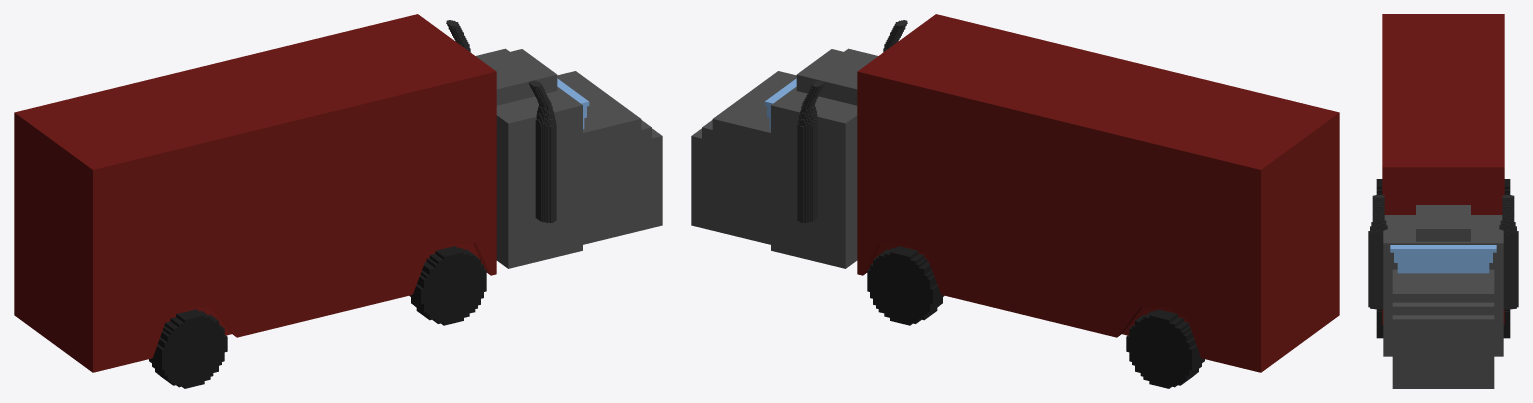
File: Car2.fbx
3 renders of one model, left to right at view 1: azimuth 30°, elevation 25°; view 2: azimuth 150°, elevation 25°; view 3: azimuth 270°, elevation 25°, orthographic. The views are drawn at different scales.
Parts seen in each view (by area): view 1: Cube.015; view 2: Cube.015; view 3: Cube.015.
Boxes of the visible parts, <box> form: Cube.015: <box>14,14,662,388</box>; Cube.015: <box>691,14,1339,388</box>; Cube.015: <box>1368,14,1518,388</box>.
Size of the model in its own units: 515 by 203 by 150.
